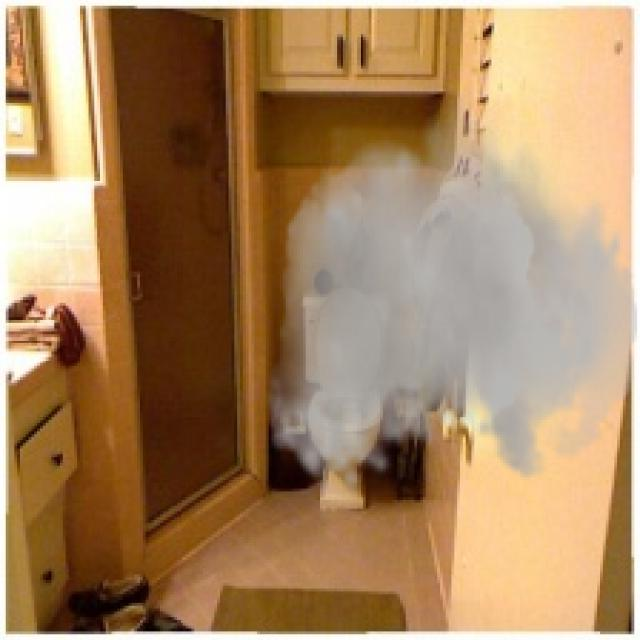smoke: (266, 89, 637, 492)
